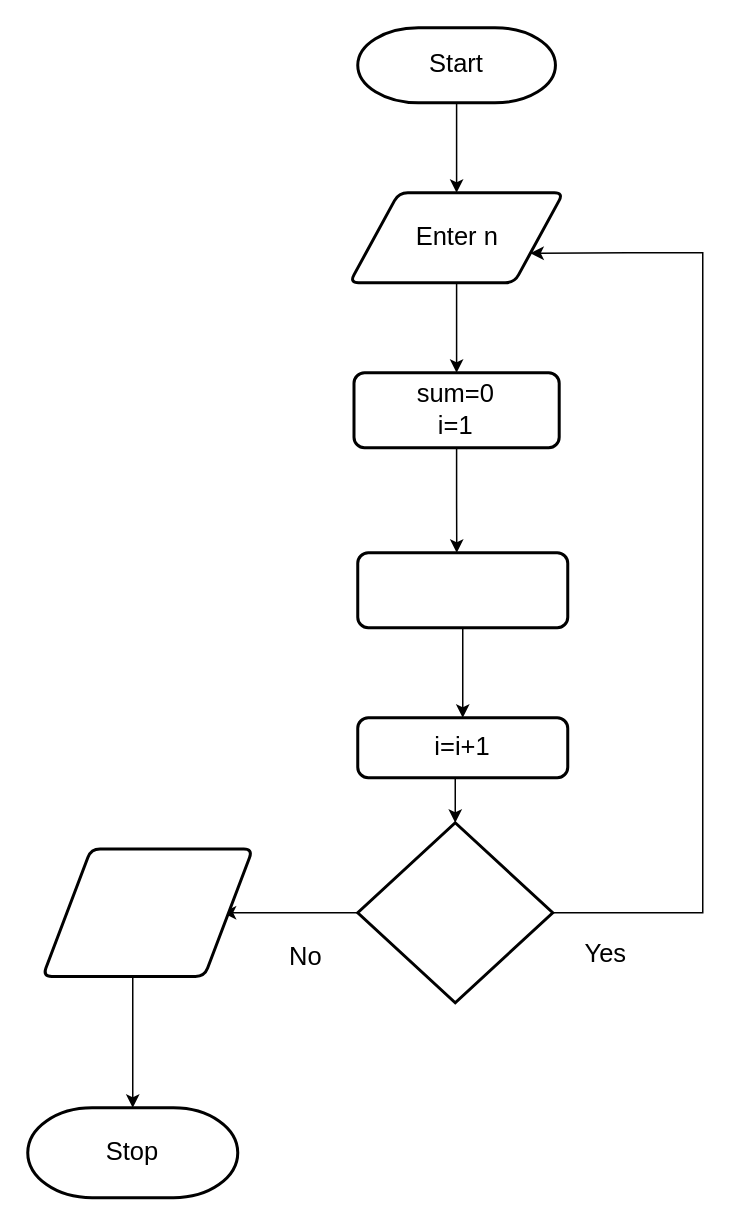
The diagram is 741 pixels wide and 1224 high, and some of its shapes have lost their labels. The shapes that lost their labels are listed below. From the top down, each one's centre as x and y in pixels, then its label:
At point 462,589: "sum=sum+(i*i)".
At point 147,912: "Print sum".
At point 455,912: "is i<=n".
